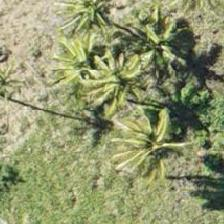coconut_tree: (113, 94, 203, 184), (82, 37, 172, 127), (35, 13, 125, 103), (111, 0, 201, 81), (50, 0, 140, 53)
